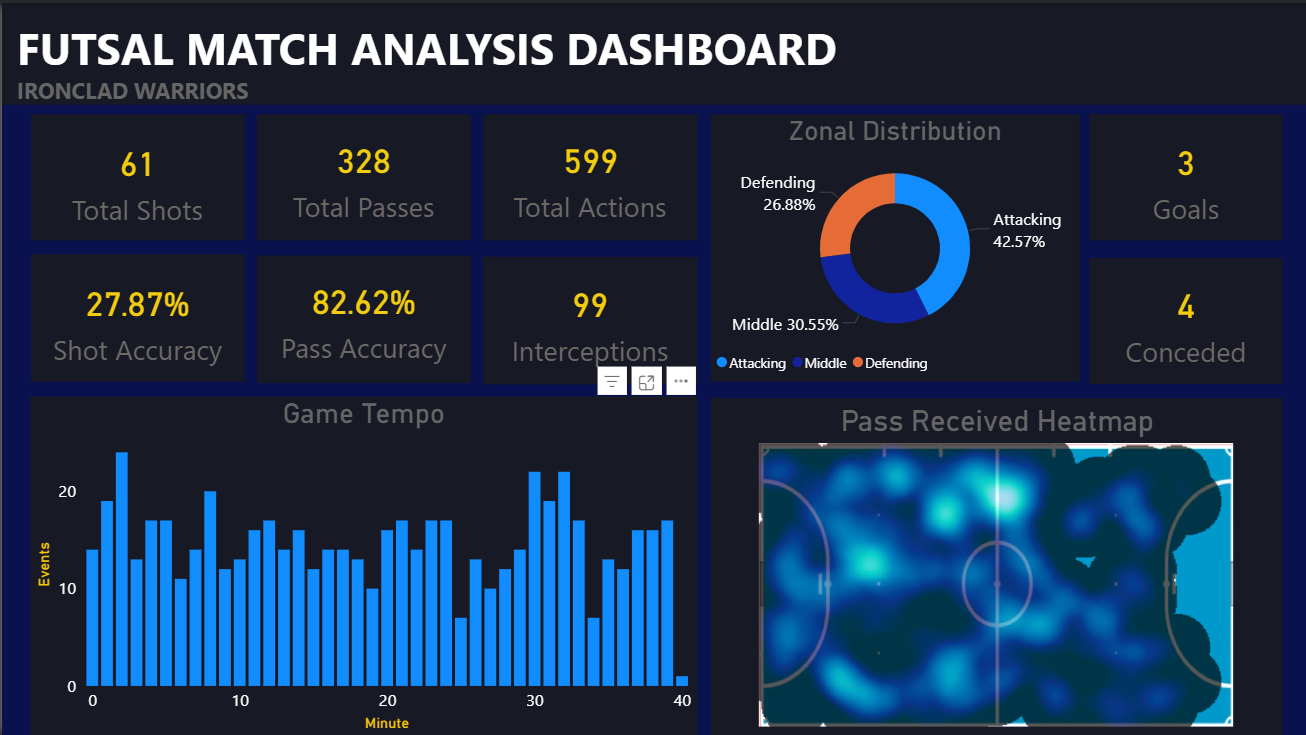

What the dashboard file says about the page in this screenshot:
{"tool":"powerbi","page":{"name":"Page 1","canvas":[1280,720],"ordinal":0},"visuals":[{"type":"shape","box":[0,0,1280.3,100.2],"z":0},{"type":"textbox","box":[9.6,9.6,842.5,161.9],"z":1000},{"type":"shape","box":[28.3,109,210,123.9],"z":2000},{"type":"card","fields":{"Values":["public futsal_raw_data.Total Shots"]},"box":[28.3,110.4,210,126.5],"z":3000},{"type":"shape","box":[472.5,109,210,123.9],"z":4000},{"type":"card","fields":{"Values":["public futsal_raw_data.Total Actions"]},"box":[472.5,109,210,123.9],"z":5000},{"type":"shape","box":[250.4,109,210,123.9],"z":6000},{"type":"card","fields":{"Values":["public futsal_raw_data.Total Passes"]},"box":[250.4,109,210,123.9],"z":7000},{"type":"shape","box":[28.3,246.4,210,125.2],"z":8000},{"type":"card","fields":{"Values":["public futsal_raw_data.Shot Accuracy"]},"box":[28.3,247.7,210,126.5],"z":9000},{"type":"shape","box":[472.5,249.1,210,125.2],"z":10000},{"type":"shape","box":[250.4,247.7,210,125.2],"z":11000},{"type":"card","fields":{"Values":["public futsal_raw_data.Interceptions"]},"box":[472.5,249.1,210,126.5],"z":12000},{"type":"shape","box":[28.3,386.4,654.3,333.9],"z":13000},{"type":"clusteredColumnChart","title":"Game Tempo","fields":{"Category":["public game_tempo.minute_window"],"Y":["Sum(public player_min_eve.event_count)"]},"box":[28.3,386.4,654.3,333.9],"z":14000},{"type":"shape","box":[696,109,362.1,262.5],"z":15000},{"type":"donutChart","title":"Zonal Distribution","fields":{"Category":["public match_analysis_zones.pitch_zone"],"Y":["CountNonNull(public match_analysis_zones.pitch_zone)"]},"box":[696,109,362.1,262.5],"z":16000},{"type":"shape","box":[696,387.7,561.4,332.5],"z":17000},{"type":"image","box":[696,432.1,560,278.7],"z":18000},{"type":"card","fields":{"Values":["public futsal_raw_data.Pass Accuracy"]},"box":[250.4,245,210,126.5],"z":19000},{"type":"textbox","box":[697.4,387.7,560,53.8],"z":20000},{"type":"shape","box":[1067.6,109,189.8,123.9],"z":21000},{"type":"shape","box":[1067.6,250.4,189.8,123.9],"z":22000},{"type":"card","fields":{"Values":["public futsal_raw_data.Goals"]},"box":[1067.6,110.4,189.8,123.9],"z":23000},{"type":"card","fields":{"Values":["public futsal_raw_data.Conceded"]},"box":[1067.6,251.7,189.8,123.9],"z":24000}]}

Visuals, with their boxes in screenshot pixels (x1, y1, x2, y2), scaled from the page's 1280x720 canvas onto the 1306x735 screenshot:
shape: (left=0, top=0, right=1305, bottom=102)
textbox: (left=10, top=10, right=869, bottom=175)
shape: (left=29, top=111, right=243, bottom=238)
card - public futsal_raw_data.Total Shots: (left=29, top=113, right=243, bottom=242)
shape: (left=482, top=111, right=696, bottom=238)
card - public futsal_raw_data.Total Actions: (left=482, top=111, right=696, bottom=238)
shape: (left=255, top=111, right=470, bottom=238)
card - public futsal_raw_data.Total Passes: (left=255, top=111, right=470, bottom=238)
shape: (left=29, top=252, right=243, bottom=379)
card - public futsal_raw_data.Shot Accuracy: (left=29, top=253, right=243, bottom=382)
shape: (left=482, top=254, right=696, bottom=382)
shape: (left=255, top=253, right=470, bottom=381)
card - public futsal_raw_data.Interceptions: (left=482, top=254, right=696, bottom=383)
shape: (left=29, top=394, right=696, bottom=734)
"Game Tempo" clusteredColumnChart: (left=29, top=394, right=696, bottom=734)
shape: (left=710, top=111, right=1080, bottom=379)
"Zonal Distribution" donutChart: (left=710, top=111, right=1080, bottom=379)
shape: (left=710, top=396, right=1283, bottom=734)
image: (left=710, top=441, right=1282, bottom=726)
card - public futsal_raw_data.Pass Accuracy: (left=255, top=250, right=470, bottom=379)
textbox: (left=712, top=396, right=1283, bottom=451)
shape: (left=1089, top=111, right=1283, bottom=238)
shape: (left=1089, top=256, right=1283, bottom=382)
card - public futsal_raw_data.Goals: (left=1089, top=113, right=1283, bottom=239)
card - public futsal_raw_data.Conceded: (left=1089, top=257, right=1283, bottom=383)
